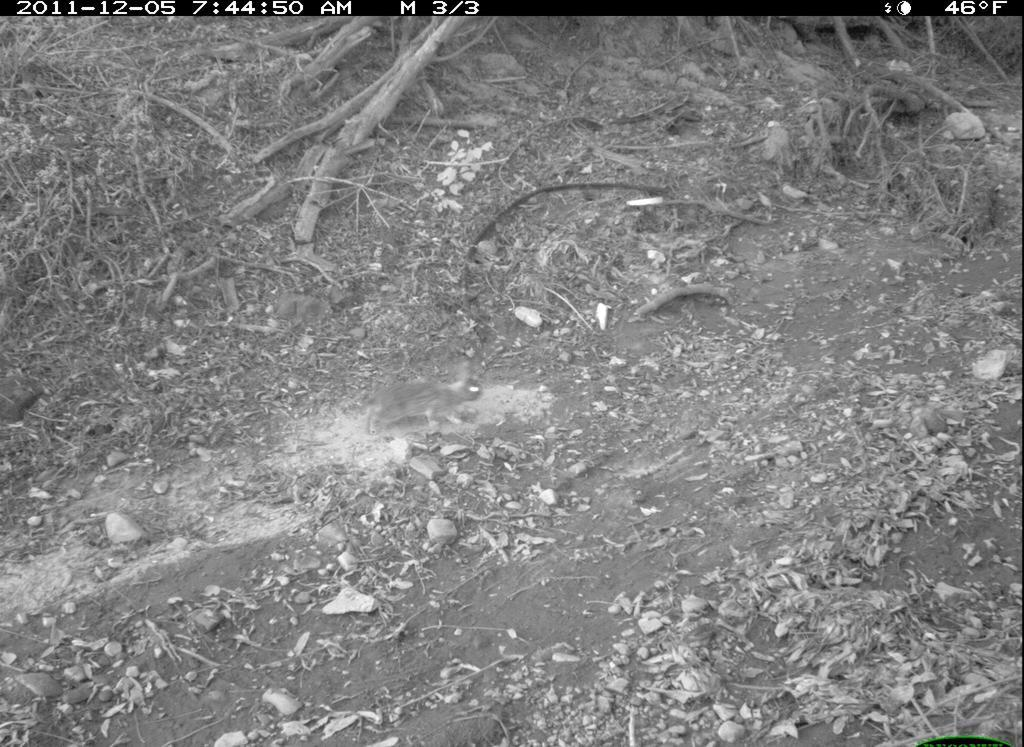rabbit: (360, 354, 489, 441)
